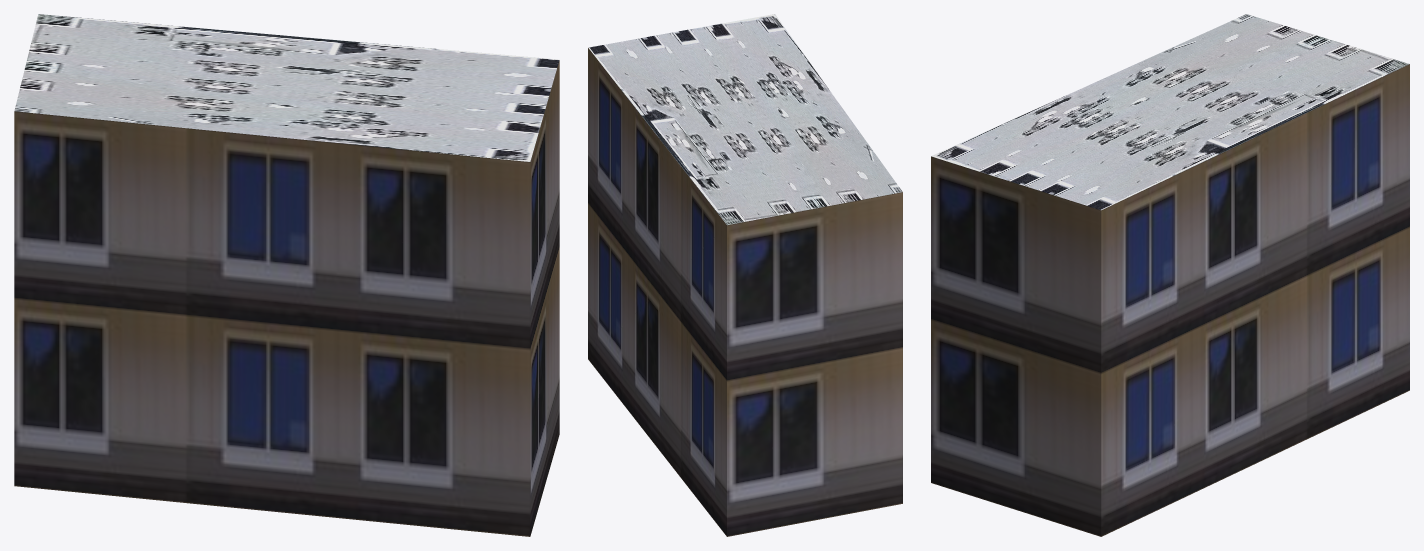
Rendered from ResTex__209.fbx.
The picture shows the model from 3 angles, left to right: view 1: azimuth 30°, elevation 25°; view 2: azimuth 150°, elevation 25°; view 3: azimuth 270°, elevation 25°; orthographic projection. The views are drawn at different scales.
Parts seen in each view (by area): view 1: CityEngineMaterial_5_m, CityEngineMaterial_4_m; view 2: CityEngineMaterial_5_m, CityEngineMaterial_4_m; view 3: CityEngineMaterial_5_m, CityEngineMaterial_4_m.
Part boxes in pixels (x1,y1,x2,y2): CityEngineMaterial_5_m: (14,60,559,536); CityEngineMaterial_4_m: (14,14,559,161); CityEngineMaterial_5_m: (588,48,902,536); CityEngineMaterial_4_m: (588,14,902,225); CityEngineMaterial_5_m: (931,64,1409,536); CityEngineMaterial_4_m: (931,14,1409,210).
Bounding box in the file's own units: 7.74 × 6 × 7.97.
2 materials, 2 textured.
